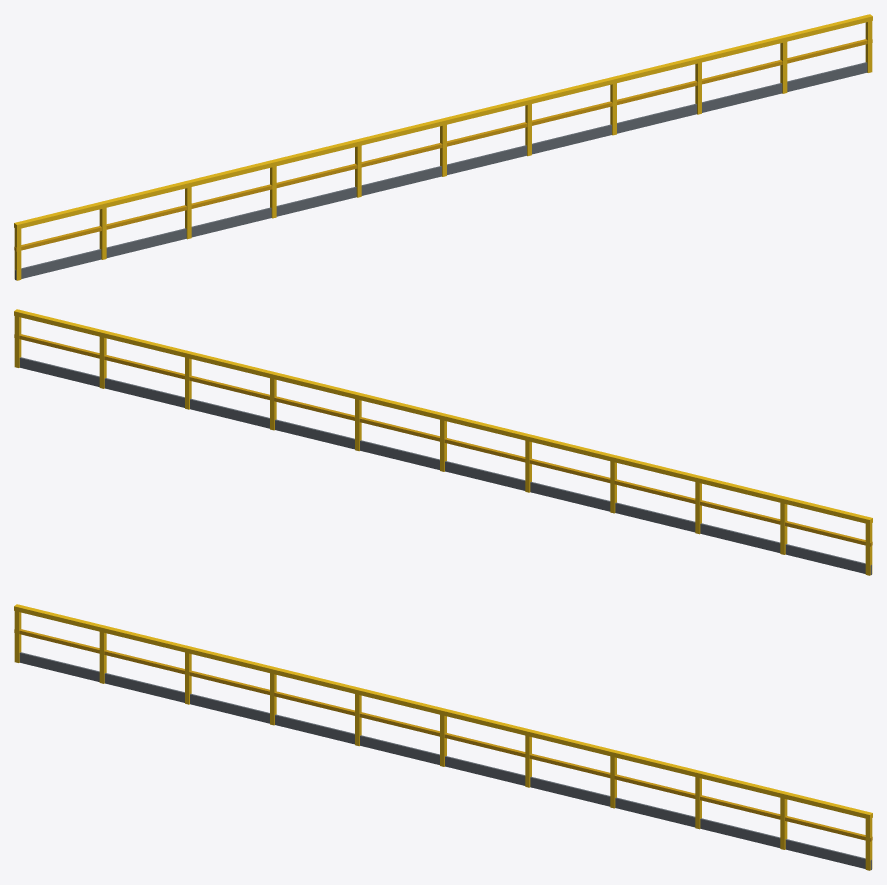
Rendered from safety-rail.glb.
3 views of the same model, one above another, from view 1: azimuth 30°, elevation 25°; view 2: azimuth 150°, elevation 25°; view 3: azimuth 330°, elevation 25° (orthographic).
Parts seen in each view (by area): view 1: safety-rail; view 2: safety-rail; view 3: safety-rail.
Boxes of the visible parts, box(x1,y1,x2,y2) form: safety-rail: box(14, 14, 872, 280); safety-rail: box(14, 309, 872, 575); safety-rail: box(14, 604, 872, 870).
Bounding box in the file's own units: 20 × 1.25 × 0.12.
